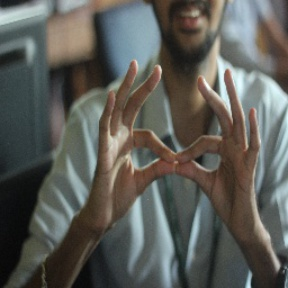B: (116, 102, 239, 206)
